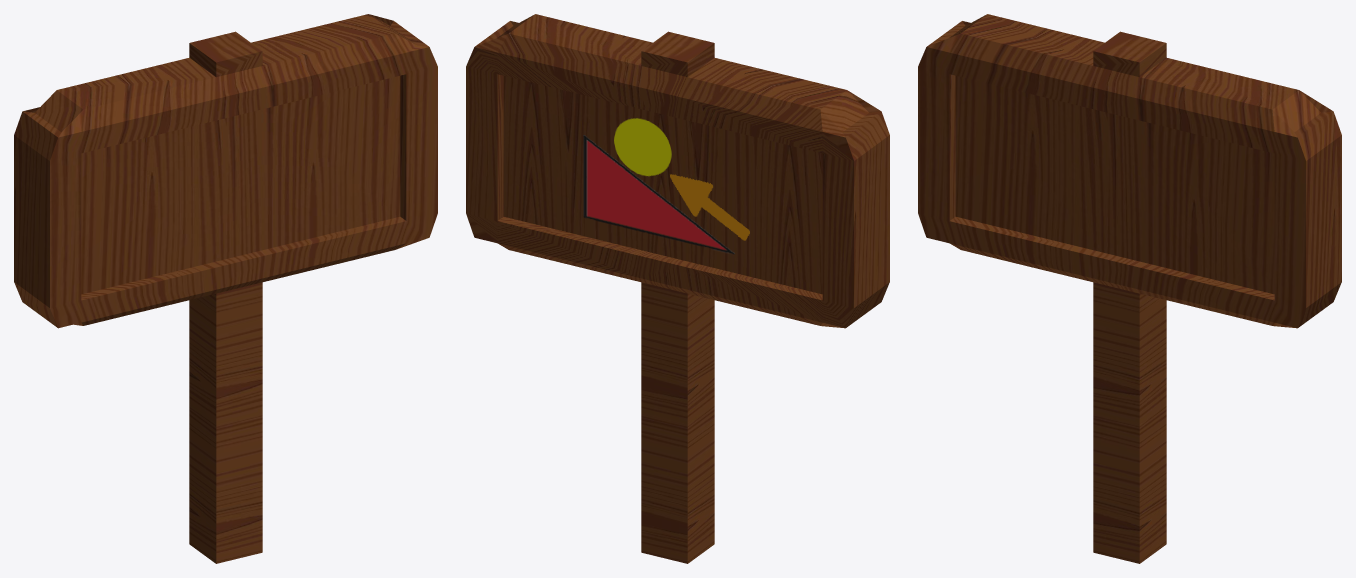
The model's file is SignRamp.fbx.
3 renders of one model, left to right at view 1: azimuth 30°, elevation 25°; view 2: azimuth 150°, elevation 25°; view 3: azimuth 330°, elevation 25°, orthographic.
Parts seen in each view (by area): view 1: Sign; view 2: Sign; view 3: Sign.
Boxes of the visible parts, left/top/right/bottom form: Sign: left=14, top=14, right=437, bottom=563; Sign: left=466, top=14, right=889, bottom=563; Sign: left=918, top=14, right=1341, bottom=563.
Size of the model in its own units: 335 by 414 by 53.52.
1 material, 1 textured.
